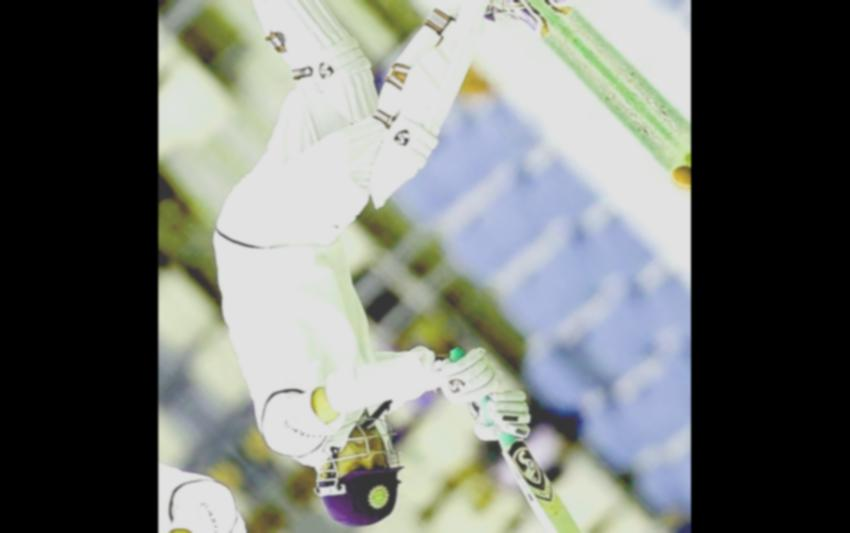batsman: (264, 0, 551, 533)
